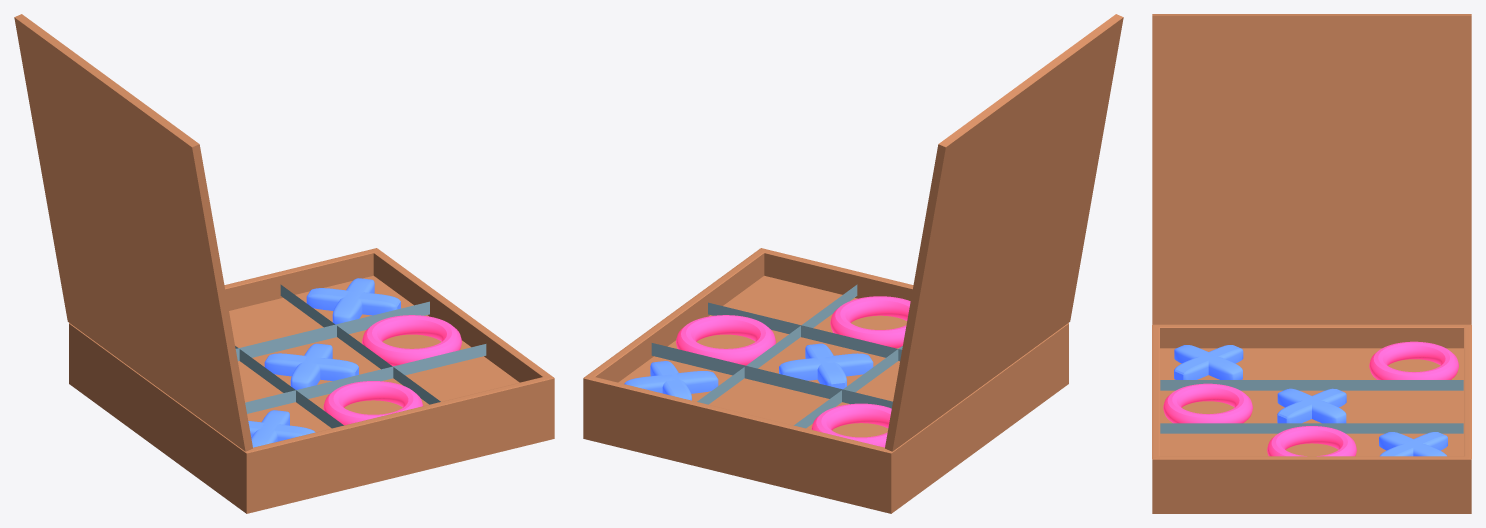
Rendered from tictactoe.glb.
3 renders of one model, left to right at view 1: azimuth 30°, elevation 25°; view 2: azimuth 150°, elevation 25°; view 3: azimuth 270°, elevation 25°, orthographic. The views are drawn at different scales.
Visible parts, largest first — view 1: Cube.002, Cube, Torus, Cube.004, Cube.001, Cube.008, Torus.001, Cube.003, Cube.006, Cube.007, Cube.005; view 2: Cube.002, Cube, Torus, Cube.003, Torus.001, Cube.001, Cube.004, Cube.008, Torus.002, Cube.006, Cube.005; view 3: Cube.002, Cube, Cube.005, Cube.006, Torus.001, Torus.002, Cube.001, Cube.007, Torus, Cube.008.
Boxes of the visible parts, x1,y1,x2,y2 form: Cube.002: (14, 14, 252, 451); Cube: (69, 248, 554, 513); Torus: (362, 315, 461, 366); Cube.004: (245, 344, 486, 413); Cube.001: (264, 343, 358, 389); Cube.008: (306, 278, 400, 324); Torus.001: (323, 381, 422, 425); Cube.003: (235, 301, 429, 361); Cube.006: (280, 284, 440, 404); Cube.007: (248, 410, 315, 447); Cube.005: (235, 346, 343, 428); Cube.002: (885, 14, 1123, 451); Cube: (583, 248, 1068, 513); Torus: (676, 315, 775, 365); Cube.003: (651, 343, 892, 408); Torus.001: (830, 296, 910, 348); Cube.001: (779, 343, 873, 389); Cube.004: (708, 302, 901, 361); Cube.008: (624, 361, 718, 400); Torus.002: (811, 403, 891, 447); Cube.006: (697, 284, 857, 404); Cube.005: (794, 346, 902, 428); Cube.002: (1152, 14, 1471, 324); Cube: (1152, 324, 1471, 513); Cube.005: (1160, 380, 1463, 390); Cube.006: (1160, 423, 1463, 433); Torus.001: (1163, 383, 1252, 423); Torus.002: (1369, 341, 1458, 379); Cube.001: (1277, 388, 1346, 423); Cube.007: (1174, 345, 1243, 379); Torus: (1267, 426, 1356, 456); Cube.008: (1379, 432, 1447, 456).
Size of the model in its own units: 4.71 by 4.73 by 4.01.
